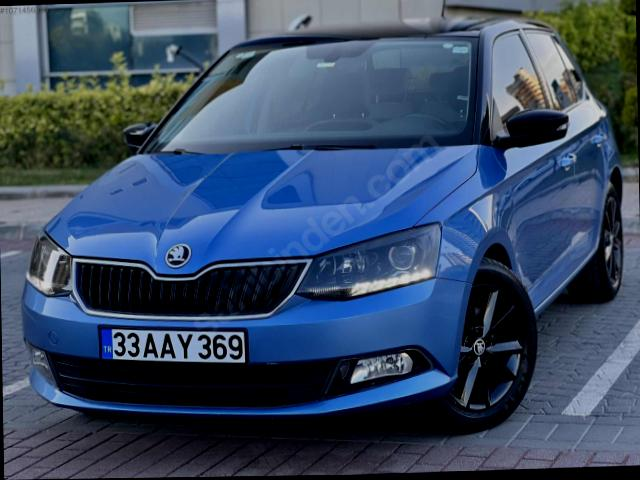plaka: (100, 327, 246, 363)
